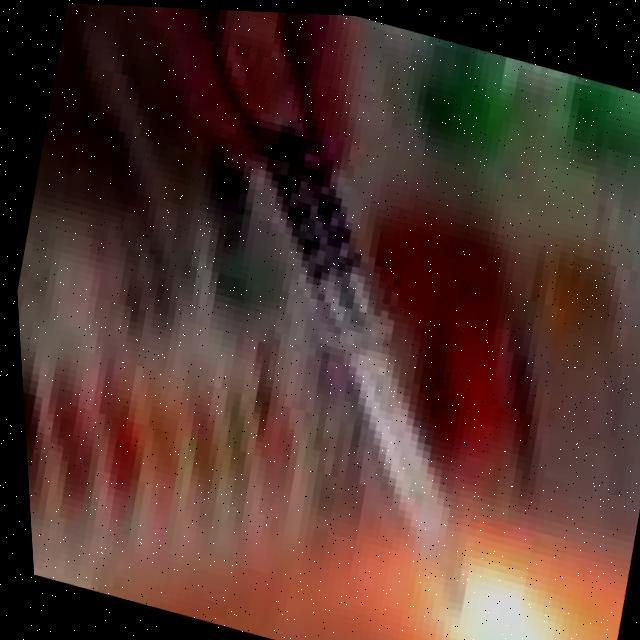knife: (149, 98, 556, 611)
